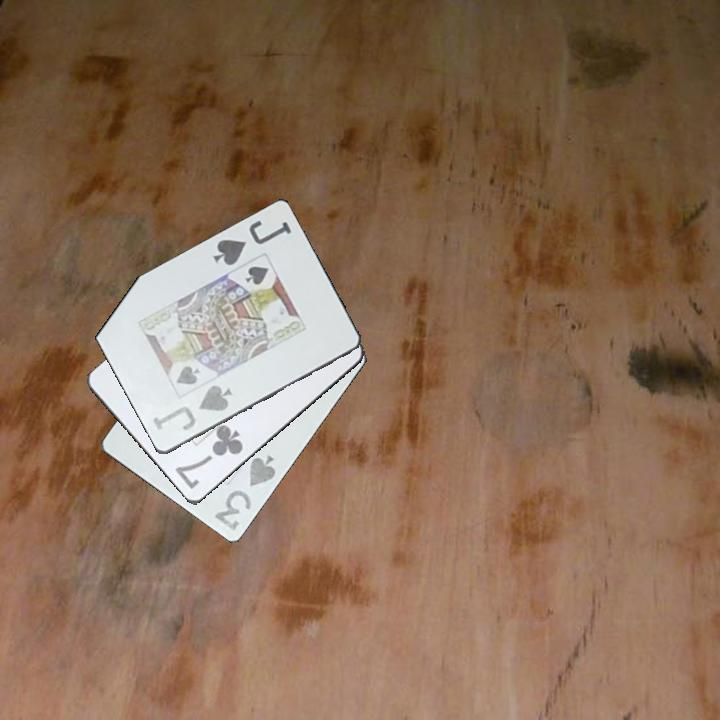3s: (211, 452, 279, 534)
7c: (172, 423, 246, 492)
Js: (209, 217, 294, 270), (149, 382, 235, 434)
